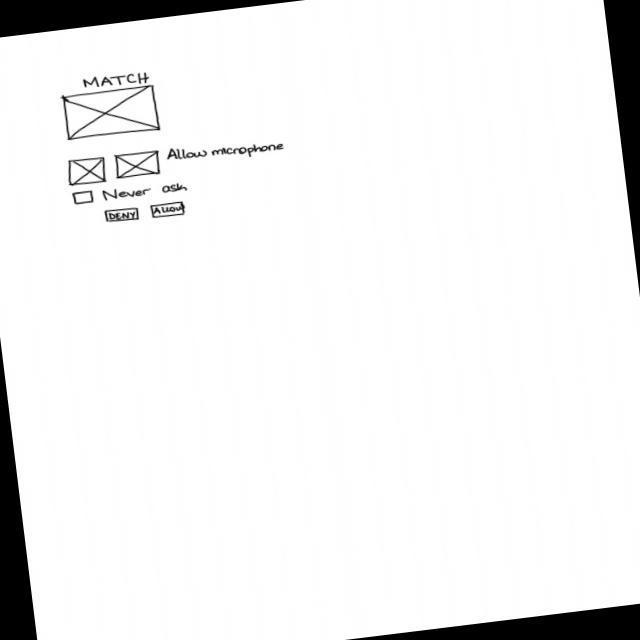button: (149, 201, 188, 221), (103, 207, 141, 226)
checkbox: (71, 178, 191, 208)
image: (62, 85, 163, 144), (113, 149, 163, 181), (67, 155, 109, 188)
label: (168, 134, 287, 167), (80, 67, 153, 93)
